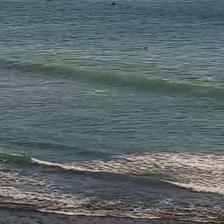surfer: (111, 1, 116, 5), (47, 0, 52, 1)
